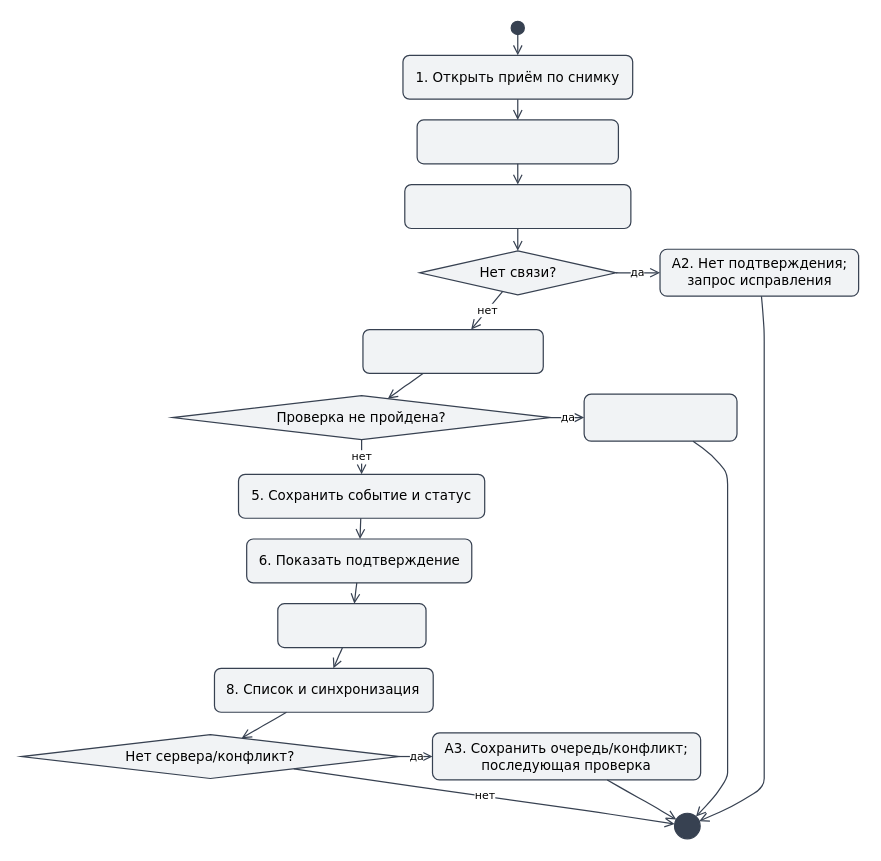
The diagram is 881 pixels wide and 861 high, and some of its shapes have lost their labels. The shapes that lost their labels are listed below. From the top down, each one's box as (x1, y1, x2, y2) in pixels, then its label:
(416, 119, 618, 164): 2. Нажать «Отметиться»
(404, 183, 631, 229): 3. Установить прямой канал
(362, 328, 543, 373): 4. Проверить событие
(583, 393, 737, 441): А1. Отклонить; показать причину
(277, 602, 426, 648): 7. Закрыть приём
